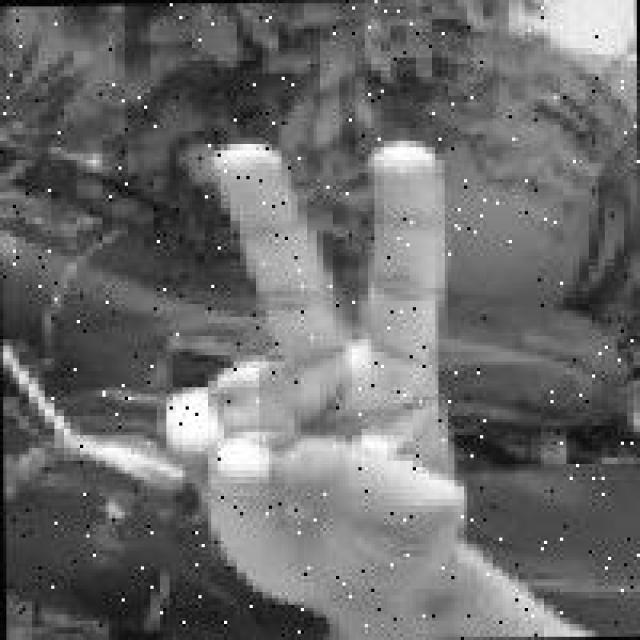V: (152, 131, 475, 634)
